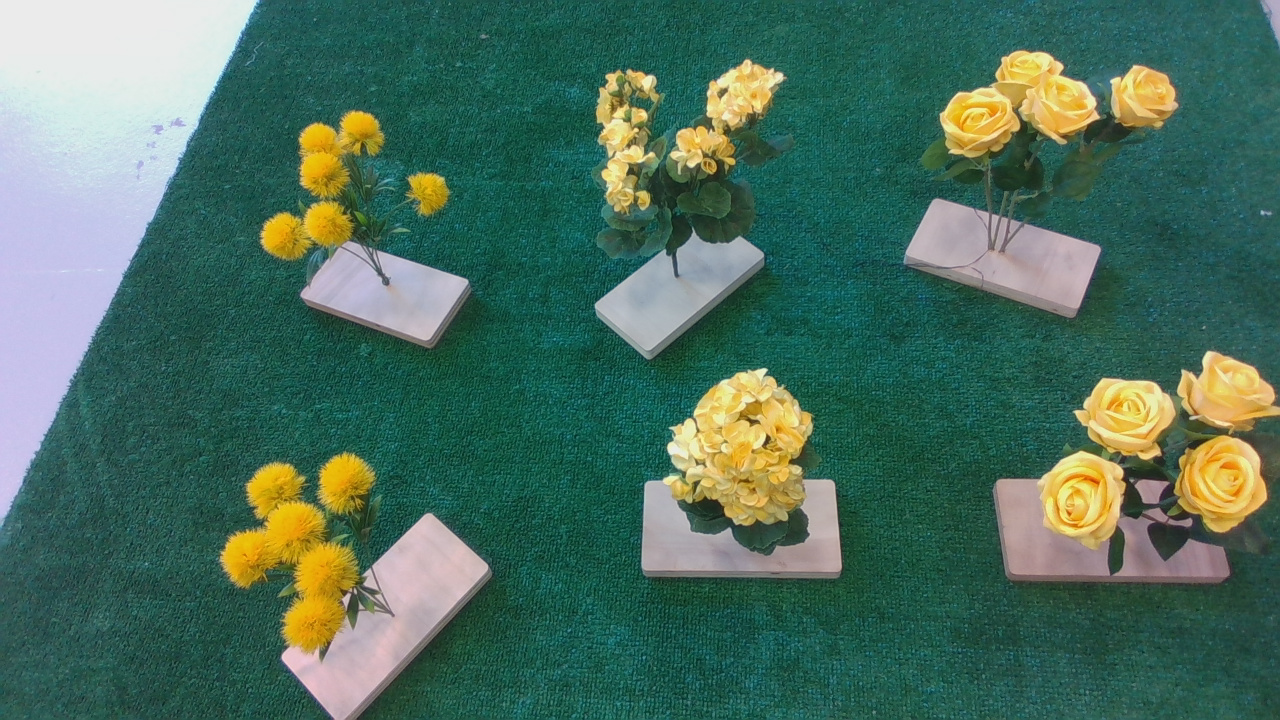dandelion: (221, 452, 410, 666), (254, 110, 466, 293)
geranium: (595, 62, 805, 272), (665, 367, 826, 563)
rose: (1040, 342, 1280, 568), (905, 51, 1188, 198)
